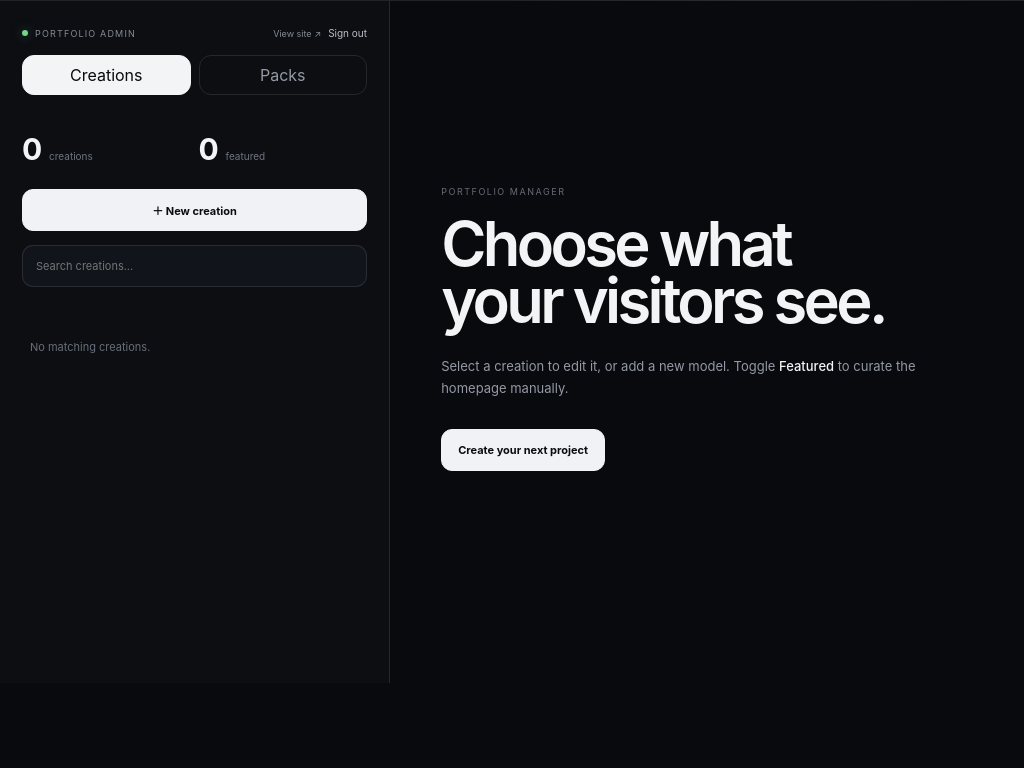
switches to packs and exposes pack creation without replacing the creations section
The image size is (1024, 768).
Expected: the button "Creations" is shown, [22,55,190,95]
Click the button "Packs" at [283, 75], box [198,55,367,95]
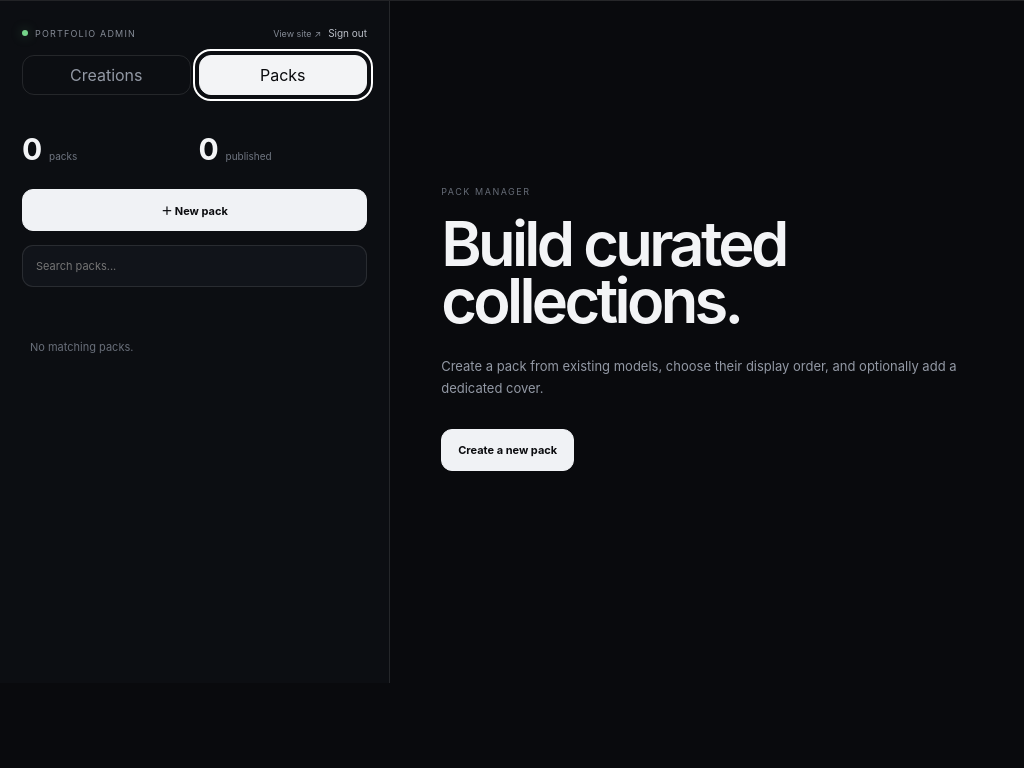
Expected: the button "＋ New pack" is shown, [22,189,367,231]
Expected: the text "PACK MANAGER" is shown, [441,186,531,197]
